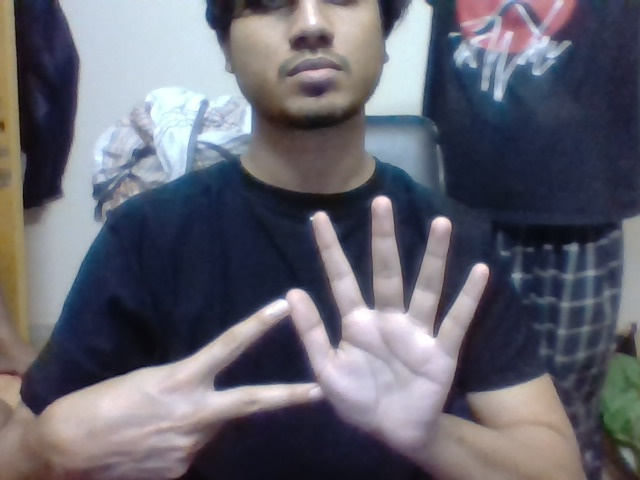N: (185, 294, 286, 424)
